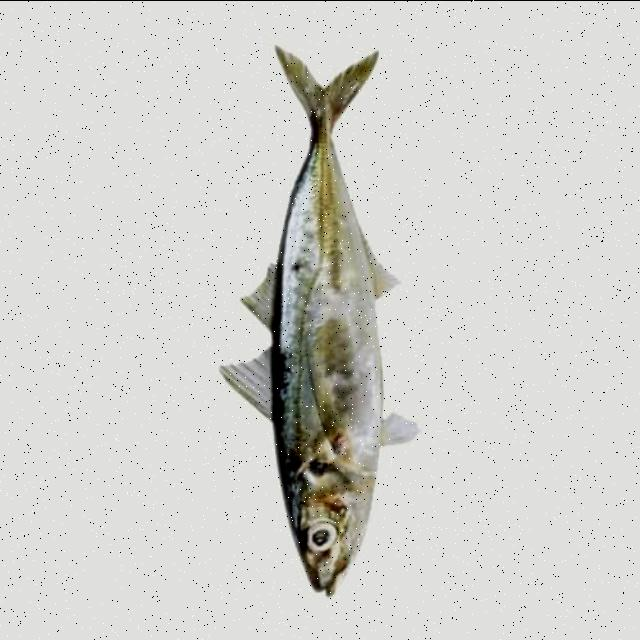Mulut: (300, 564, 368, 606)
Sirip Anal: (346, 230, 418, 302)
Sirip Dada: (295, 336, 355, 456)
Sirip Ekor: (263, 37, 389, 126)
Sirip Perut: (373, 403, 427, 449)
Sirip Punggung: (202, 236, 286, 432)
